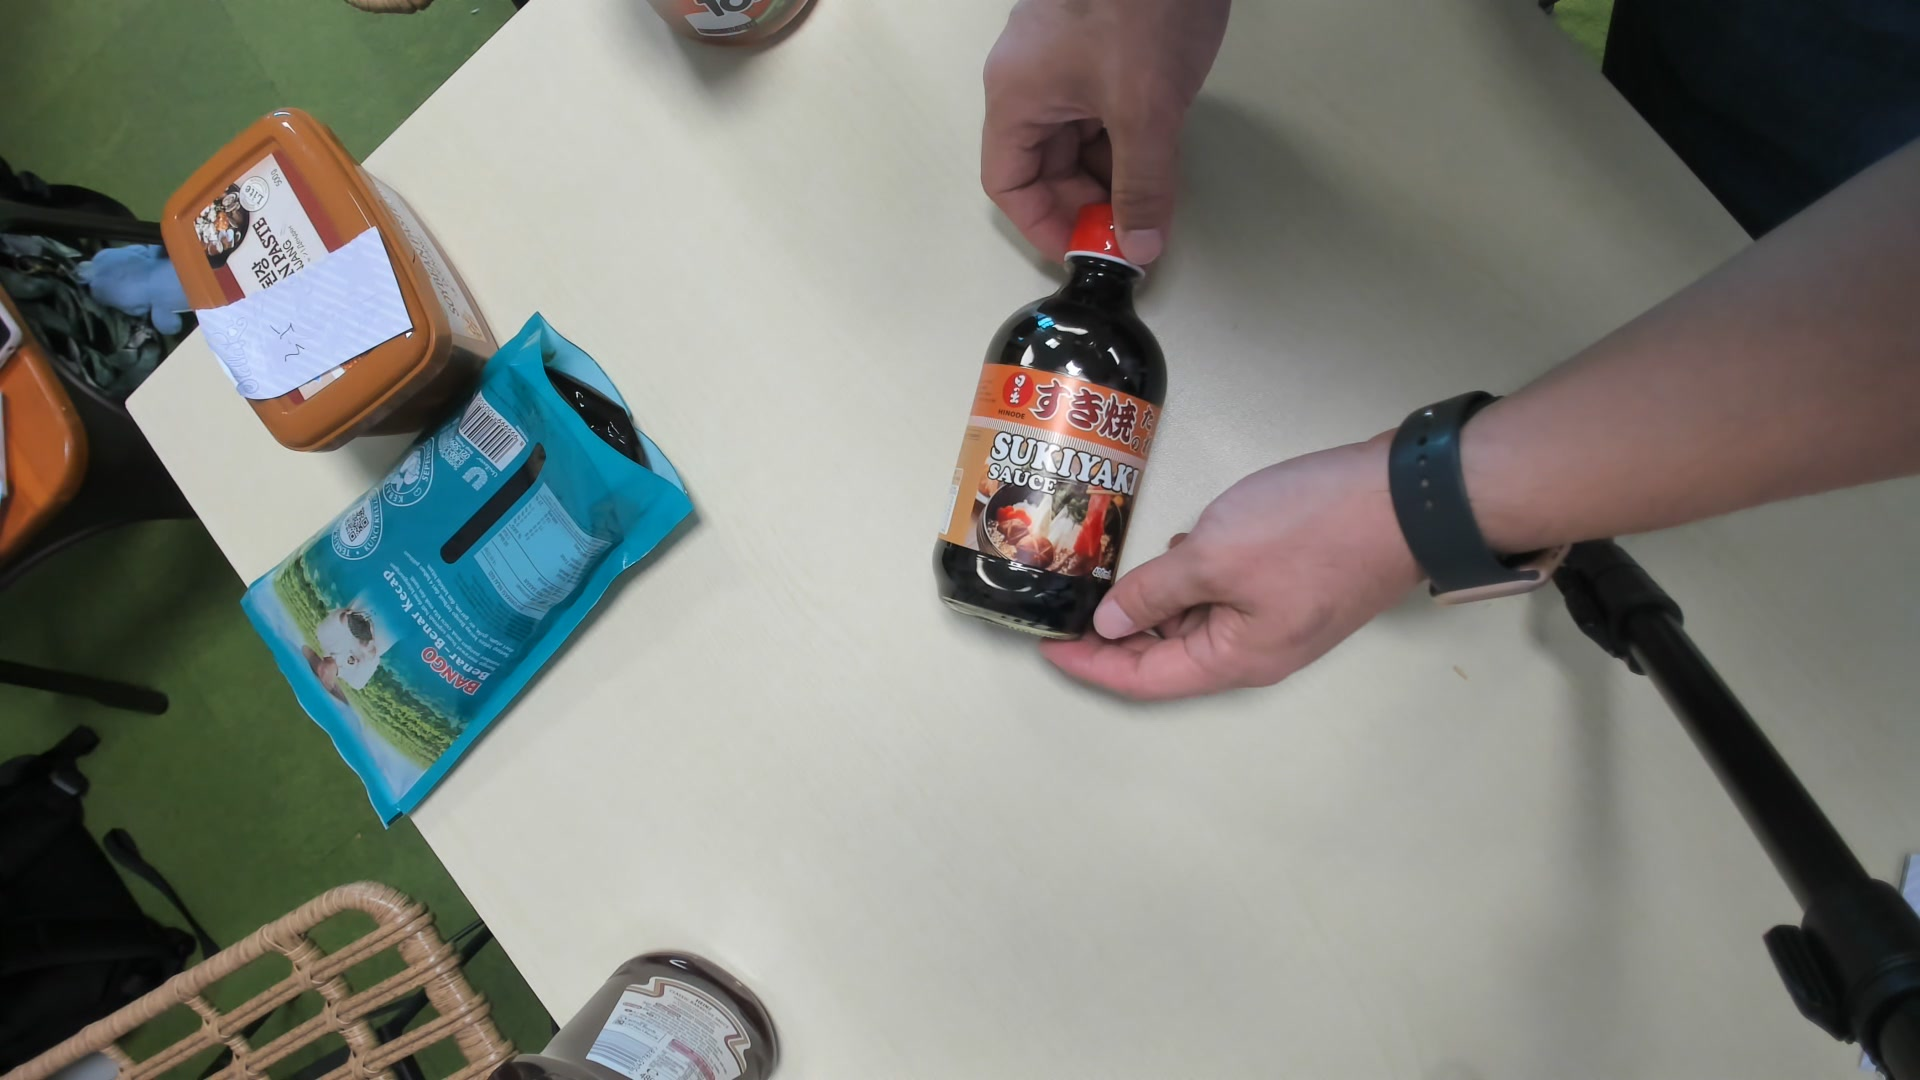OtherSauceDressing_400-499g_NonHalal_NonHealthy: (930, 199, 1168, 647)
